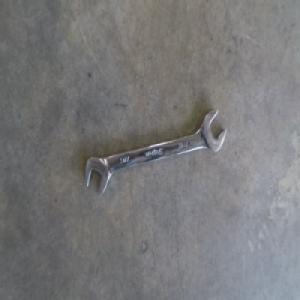Wrench: (85, 107, 226, 196)
